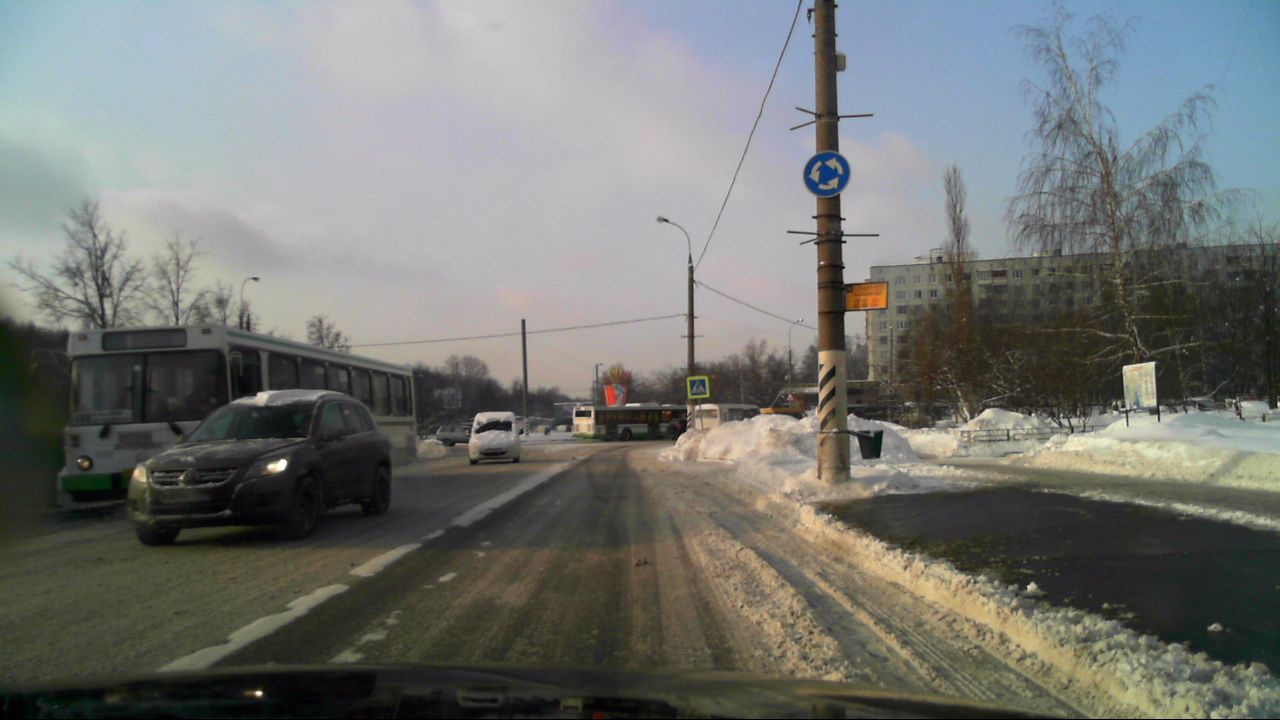Round-About: (802, 148, 852, 201)
